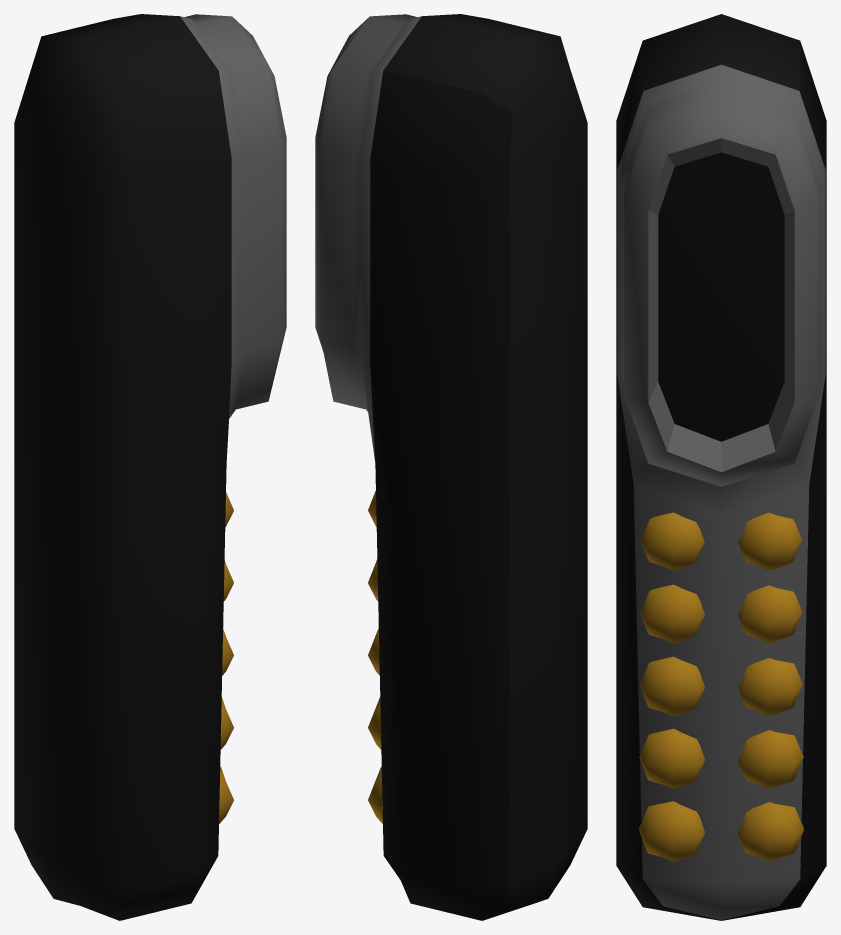
Rendered from Keypad3.fbx.
3 renders of one model, left to right at view 1: azimuth 30°, elevation 25°; view 2: azimuth 150°, elevation 25°; view 3: azimuth 270°, elevation 25°, orthographic.
Visible parts, largest first — view 1: Box001, Box002; view 2: Box001, Box002; view 3: Box001, Box002.
Boxes of the visible parts, x1,y1,x2,y2 form: Box001: [14, 14, 286, 920]; Box002: [219, 492, 233, 823]; Box001: [315, 14, 587, 920]; Box002: [368, 490, 382, 823]; Box001: [616, 14, 826, 920]; Box002: [638, 512, 803, 861].
Bounding box in the file's own units: 86.64 × 345 × 75.29.
